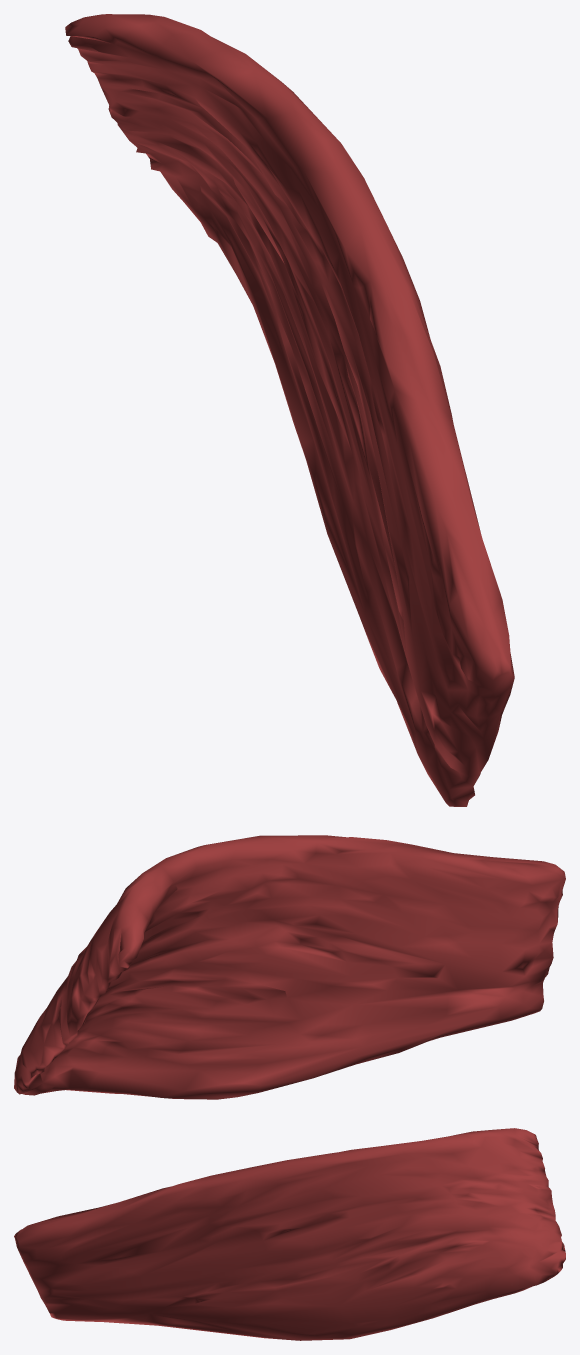
File: external-part-of-thyro-arytenoid-muscle-l.glb
3 renders of one model, top to bottom at view 1: azimuth 30°, elevation 25°; view 2: azimuth 150°, elevation 25°; view 3: azimuth 270°, elevation 25°, orthographic. The views are drawn at different scales.
Parts seen in each view (by area): view 1: External part of thyro-arytenoid muscle.l; view 2: External part of thyro-arytenoid muscle.l; view 3: External part of thyro-arytenoid muscle.l.
Boxes of the visible parts, x1,y1,x2,y2 form: External part of thyro-arytenoid muscle.l: (65, 14, 514, 806); External part of thyro-arytenoid muscle.l: (14, 835, 565, 1099); External part of thyro-arytenoid muscle.l: (14, 1128, 565, 1340).
Size of the model in its own units: 0.00597 by 0.00921 by 0.0208.
